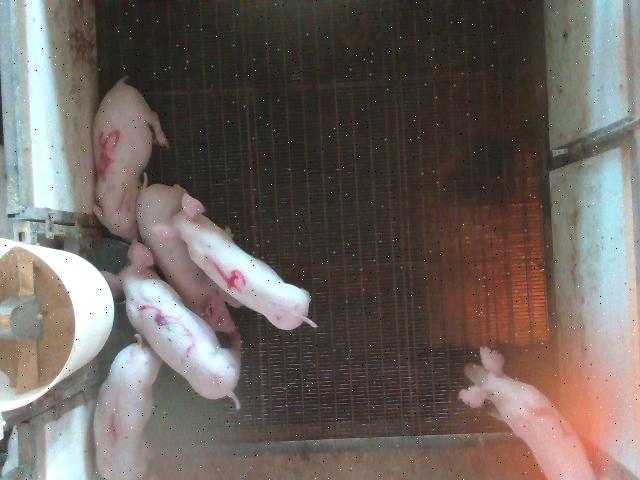pig-1: (95, 336, 161, 479)
pig-2: (459, 348, 595, 479)
pig-3: (102, 239, 240, 409)
pig-4: (151, 192, 316, 329)
pig-5: (92, 78, 169, 242)
